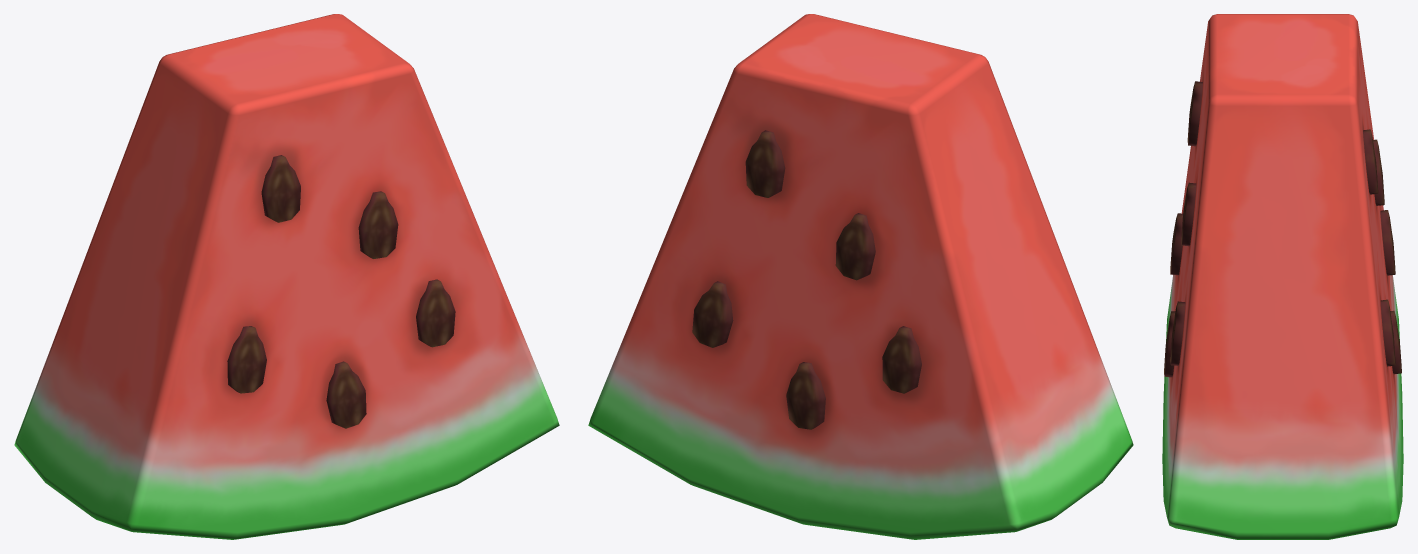
The model's file is watermelon_001.fbx.
3 renders of one model, left to right at view 1: azimuth 30°, elevation 25°; view 2: azimuth 150°, elevation 25°; view 3: azimuth 270°, elevation 25°, orthographic. The views are drawn at different scales.
Visible parts, largest first — view 1: watermelon_001; view 2: watermelon_001; view 3: watermelon_001.
Part boxes in pixels (left/top/right/bottom): watermelon_001: left=14, top=14, right=559, bottom=539; watermelon_001: left=588, top=14, right=1133, bottom=539; watermelon_001: left=1162, top=14, right=1403, bottom=539.
Size of the model in its own units: 1.35 by 1.29 by 0.6612.
Materials: 1 (1 with a texture image).
